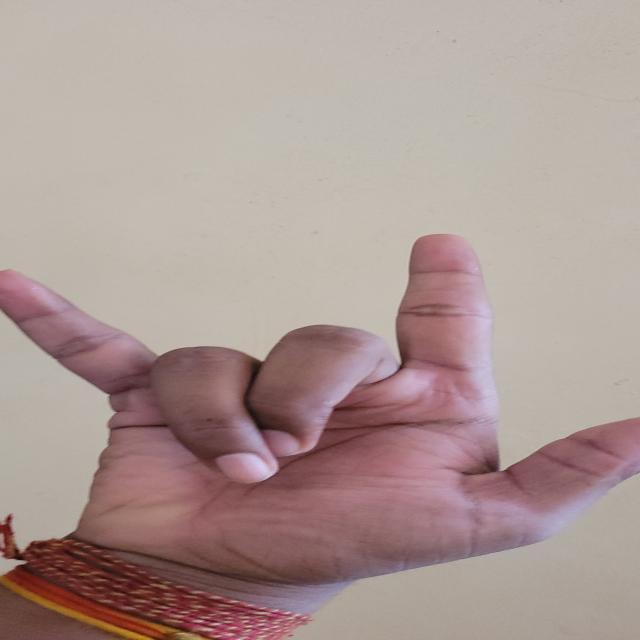i like you: (1, 210, 616, 629)
